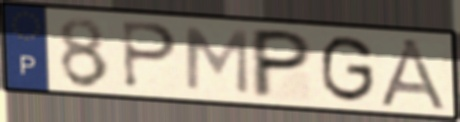8: (56, 14, 113, 89)
A: (375, 37, 454, 113)
G: (318, 33, 377, 105)
M: (182, 25, 252, 97)
P: (248, 26, 316, 100), (120, 19, 180, 92)
